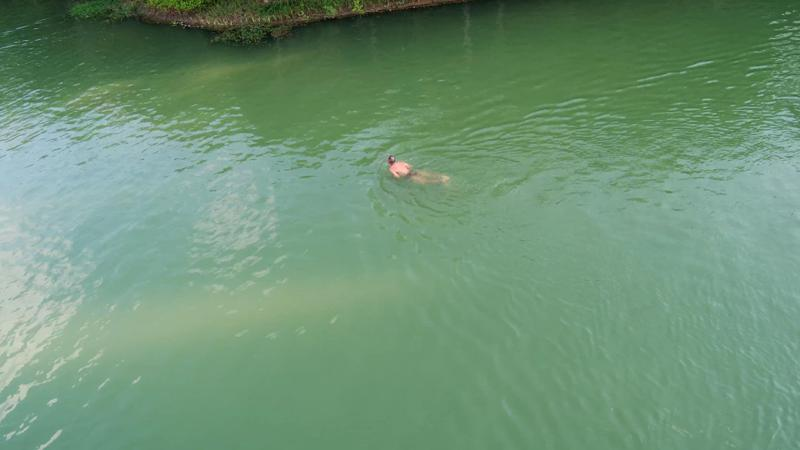swimmers: (385, 153, 451, 186)
